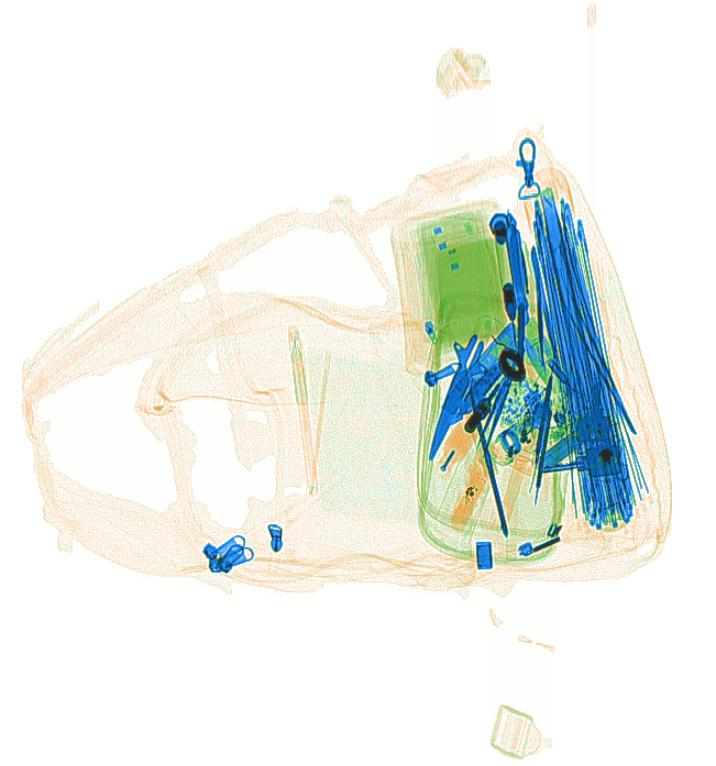battery: (536, 431, 580, 473)
scissors: (428, 303, 510, 464)
